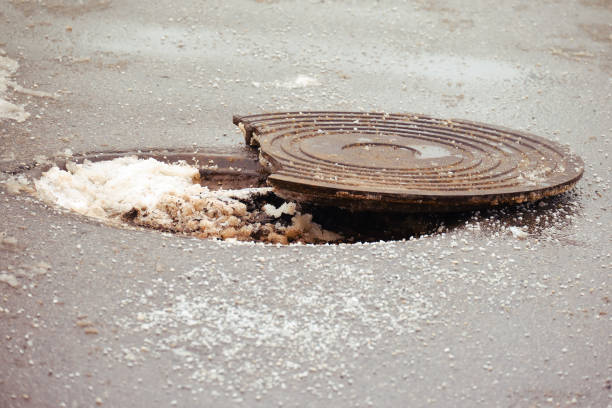open_manhole: (38, 152, 476, 244)
